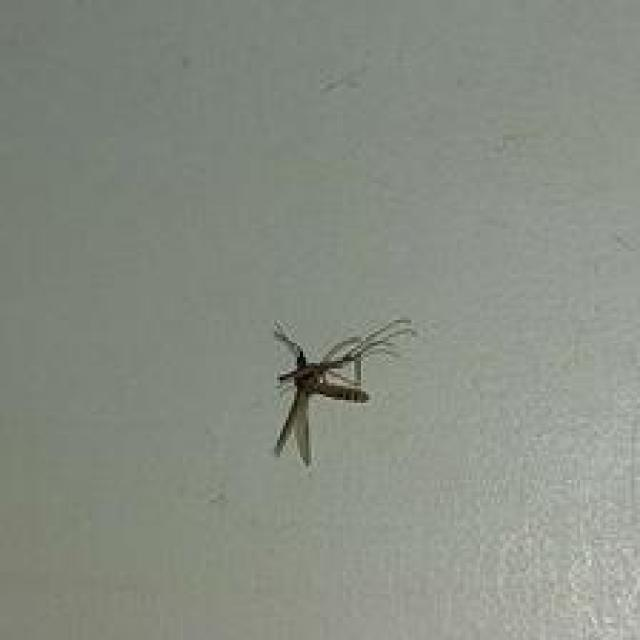Culex: (270, 316, 416, 467)
